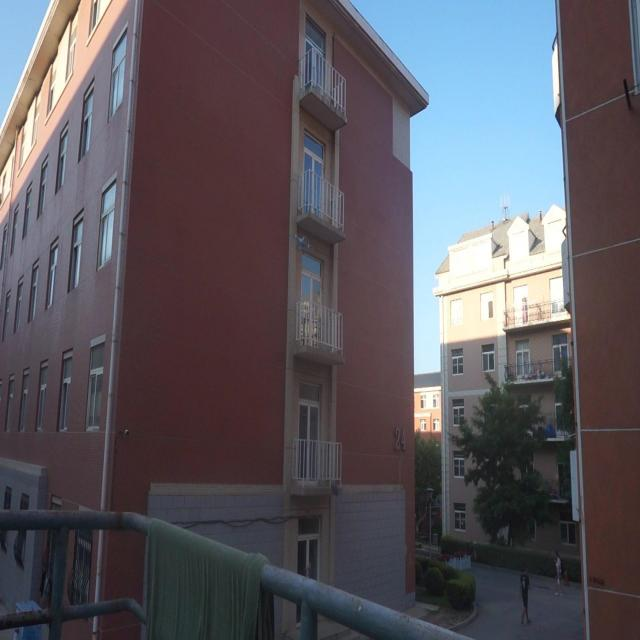UAV: (291, 230, 314, 252)
